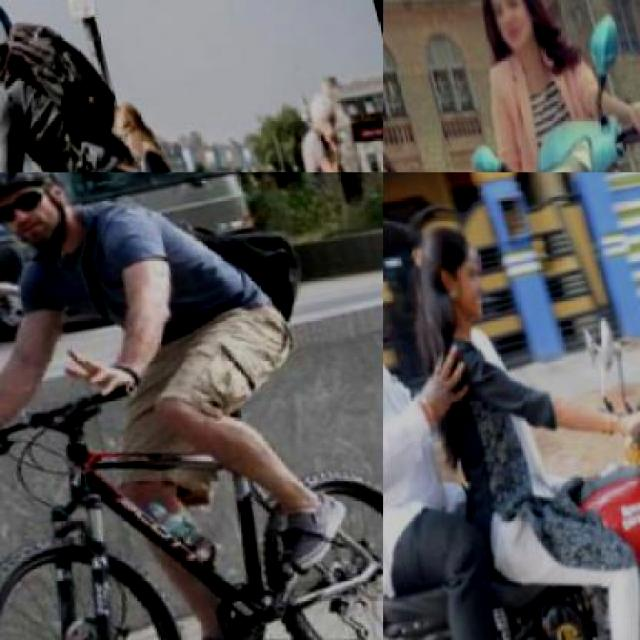With Helmet: (0, 172, 94, 266), (0, 0, 34, 112)
Without Helmet: (404, 210, 490, 312), (469, 0, 546, 57), (383, 135, 406, 171)
